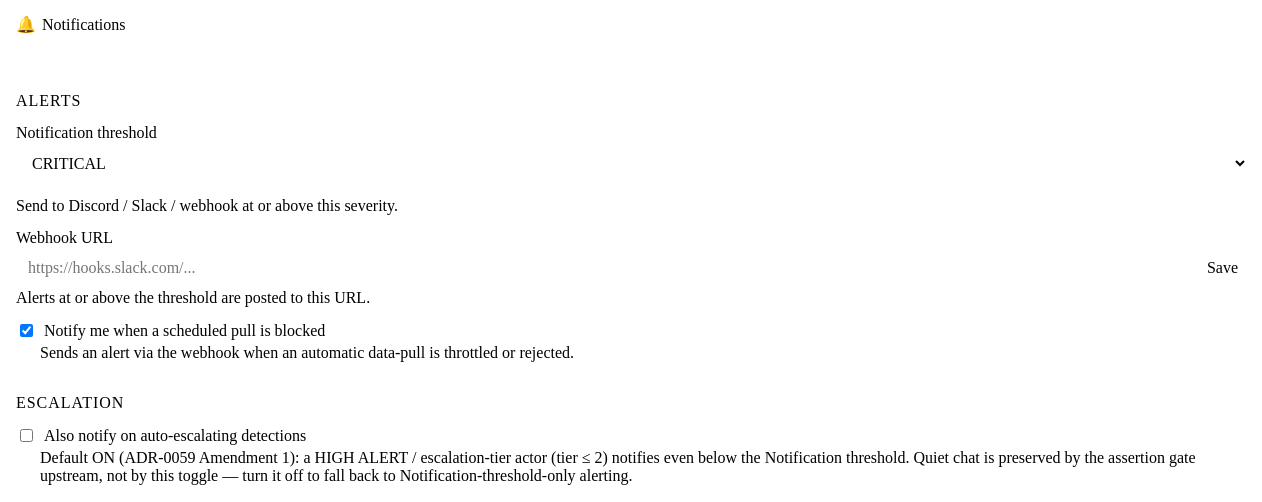
NotificationsPanel — WebhookField › rolls back checkbox and shows error toast when alert_on_sync PUT fails
Click the checkbox with test id "alert-on-sync-blocks". click: (26, 330)
box: 20,324 -> 33,337
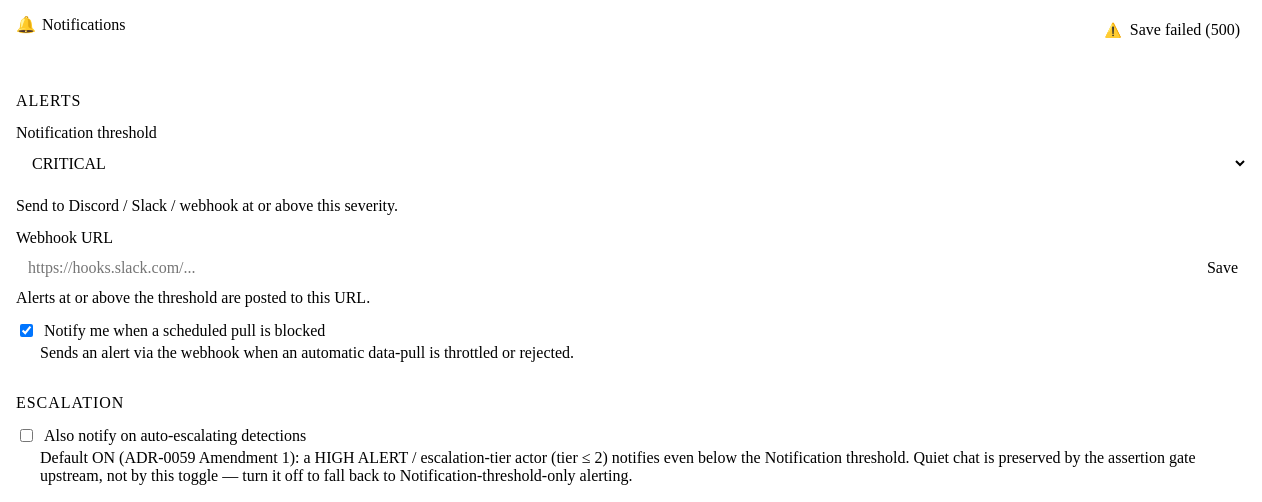
Expected: the message shows "Save failed", 1130,21 -> 1240,38
